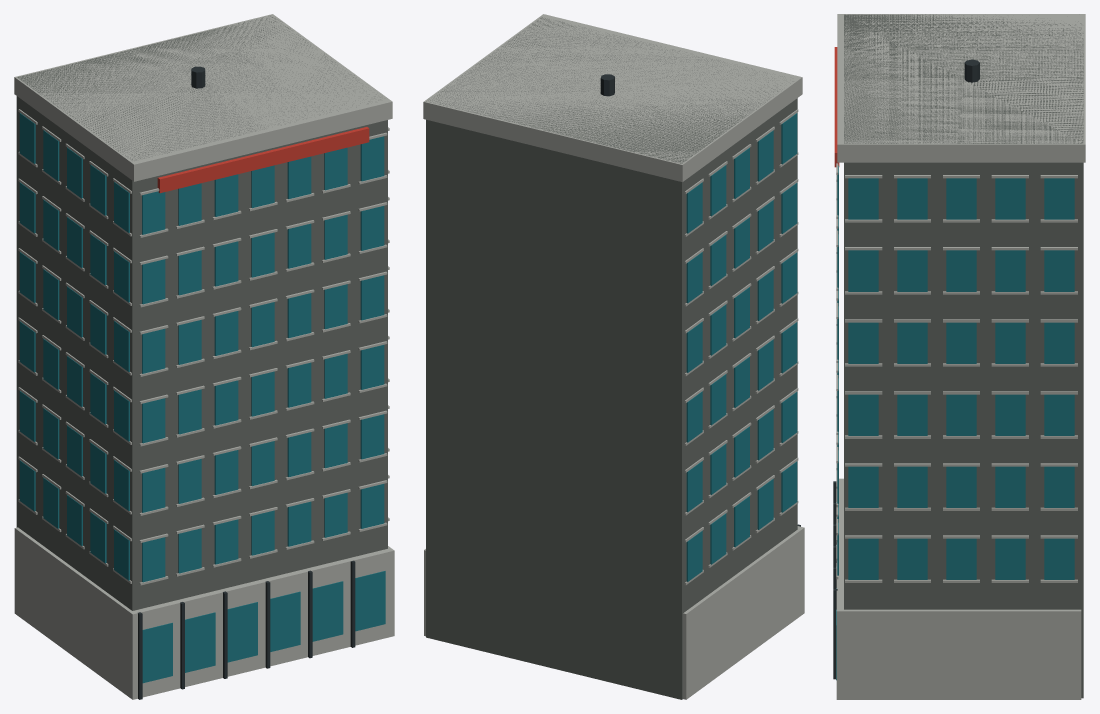
The model's file is JHB_MidRise01_LOD1.fbx.
3 views of the same model, side by side, from view 1: azimuth 30°, elevation 25°; view 2: azimuth 150°, elevation 25°; view 3: azimuth 270°, elevation 25° (orthographic). The views are drawn at different scales.
Parts seen in each view (by area): view 1: JHB_MidRise01_LOD1_FacadeAtlas, JHB_MidRise01_LOD1_TealGlass, JHB_MidRise01_LOD1_Concrete, JHB_MidRise01_LOD1_BlankSignBand, JHB_MidRise01_LOD1_DarkMetal; view 2: JHB_MidRise01_LOD1_FacadeAtlas, JHB_MidRise01_LOD1_Concrete, JHB_MidRise01_LOD1_TealGlass; view 3: JHB_MidRise01_LOD1_FacadeAtlas, JHB_MidRise01_LOD1_Concrete, JHB_MidRise01_LOD1_TealGlass, JHB_MidRise01_LOD1_DarkMetal, JHB_MidRise01_LOD1_BlankSignBand.
Boxes of the visible parts, x1,y1,x2,y2 form: JHB_MidRise01_LOD1_FacadeAtlas: (16,15,387,610); JHB_MidRise01_LOD1_TealGlass: (19,113,385,683); JHB_MidRise01_LOD1_Concrete: (14,14,394,699); JHB_MidRise01_LOD1_BlankSignBand: (157,127,369,193); JHB_MidRise01_LOD1_DarkMetal: (138,66,355,699); JHB_MidRise01_LOD1_FacadeAtlas: (426,17,797,699); JHB_MidRise01_LOD1_Concrete: (423,14,804,699); JHB_MidRise01_LOD1_TealGlass: (686,113,797,581); JHB_MidRise01_LOD1_FacadeAtlas: (844,14,1083,698); JHB_MidRise01_LOD1_Concrete: (836,14,1085,699); JHB_MidRise01_LOD1_TealGlass: (836,165,1074,680); JHB_MidRise01_LOD1_DarkMetal: (833,59,979,679); JHB_MidRise01_LOD1_BlankSignBand: (834,47,839,167).
Bounding box in the file's own units: 10.25 × 20.6 × 8.25.
Materials: 5 (1 with a texture image).
